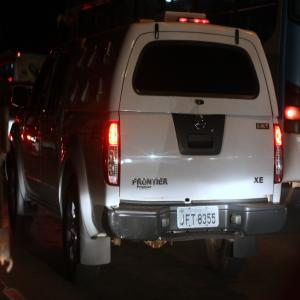Vehicle-registration-plate: (180, 214, 223, 237)
